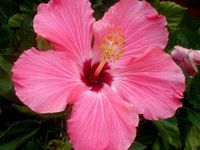Hibiscus: (7, 1, 192, 150)
